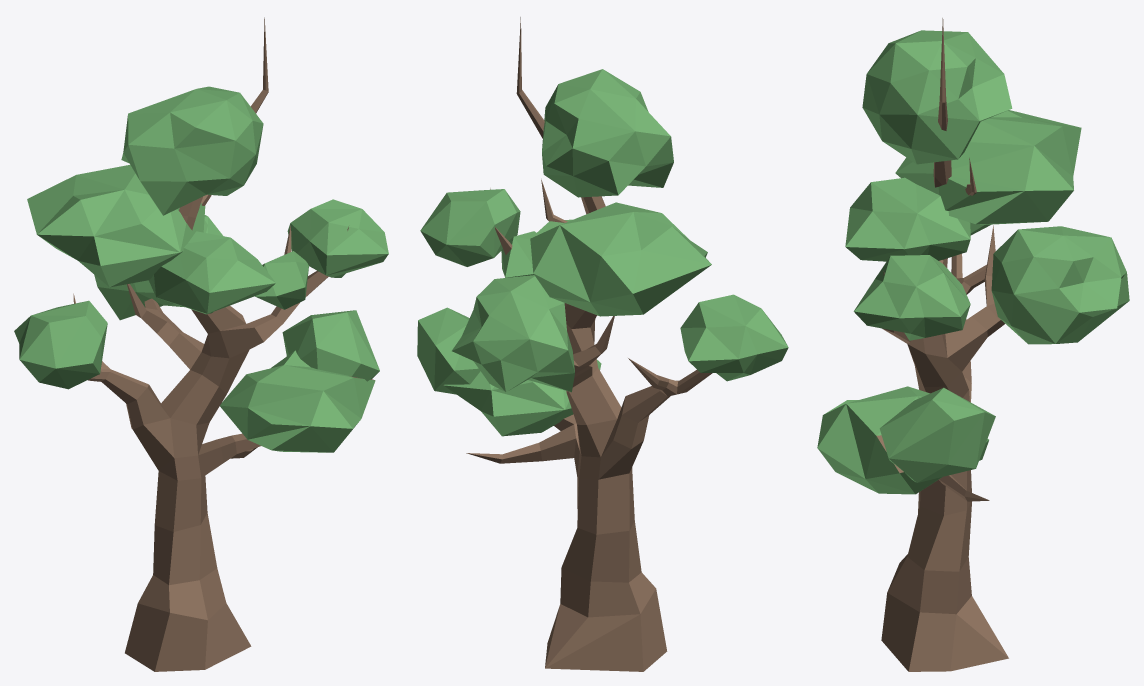
Rendered from swamp_trees4.fbx.
3 renders of one model, left to right at view 1: azimuth 30°, elevation 25°; view 2: azimuth 150°, elevation 25°; view 3: azimuth 270°, elevation 25°, orthographic. The views are drawn at different scales.
Visible parts, largest first — view 1: Cylinder.003, Cylinder.004; view 2: Cylinder.003, Cylinder.004; view 3: Cylinder.003, Cylinder.004.
Boxes of the visible parts, bbox=[...] form: Cylinder.003: bbox=[14, 86, 388, 452]; Cylinder.004: bbox=[73, 17, 374, 671]; Cylinder.003: bbox=[417, 69, 788, 436]; Cylinder.004: bbox=[466, 17, 712, 671]; Cylinder.003: bbox=[817, 30, 1129, 494]; Cylinder.004: bbox=[876, 18, 1008, 671].
Bounding box in the file's own units: 481 × 792 × 333.
